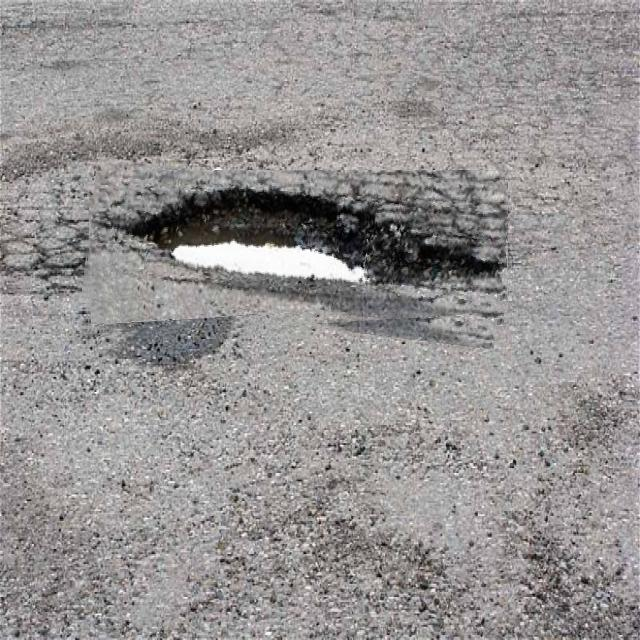Pothole: (85, 170, 508, 337)
